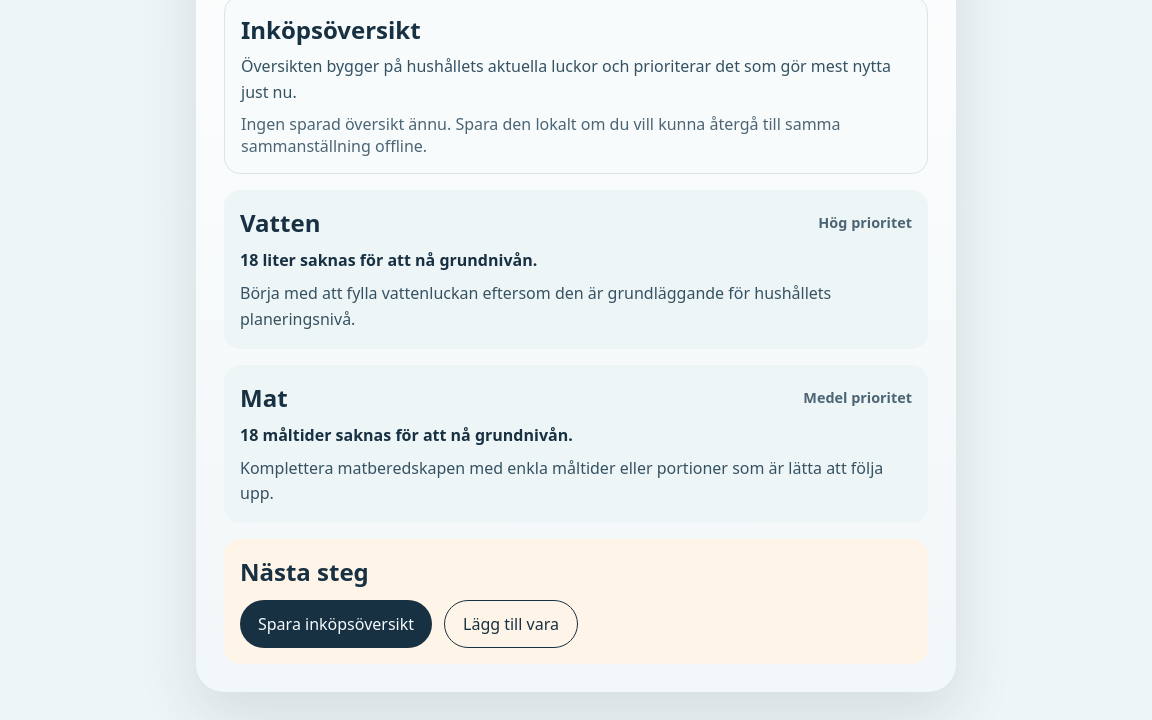
Scenario: Shopping overview route › builds and saves a shopping overview locally
(page scrolled)
expect the heading "Vatten" is shown: met, box [240,206,320,239]
expect the heading "Mat" is shown: met, box [240,381,288,414]
Click the button "Spara inköpsöversikt": click(336, 624) [240,600,432,648]
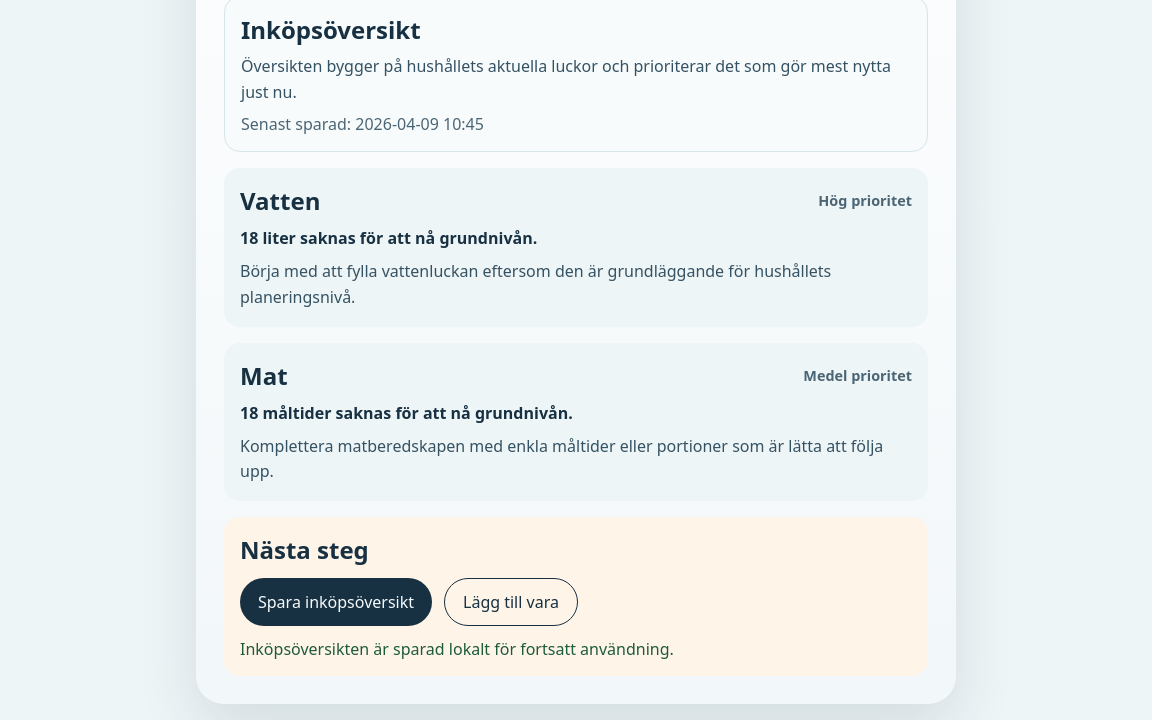
expect the text "Inköpsöversikten är sparad lokalt för fortsatt användning." is shown: met, box [240,638,674,660]
